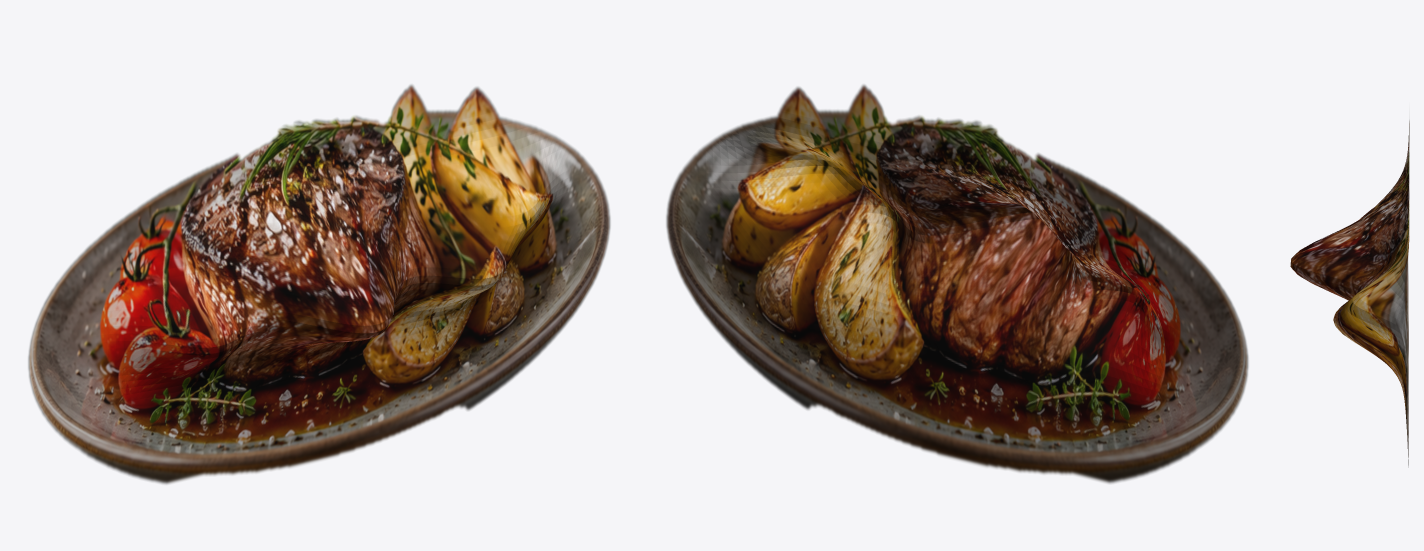
The model's file is filet-source.glb.
3 views of the same model, side by side, from view 1: azimuth 30°, elevation 25°; view 2: azimuth 150°, elevation 25°; view 3: azimuth 270°, elevation 25° (orthographic). The views are drawn at different scales.
Visible parts, largest first — view 1: world; view 2: world; view 3: world.
Part boxes in pixels (<box>): world: <box>28,85,610,483</box>; world: <box>666,85,1248,483</box>; world: <box>1290,120,1409,465</box>.
Size of the model in its own units: 0.34 by 0.2 by 0.074.
1 material, 1 textured.
